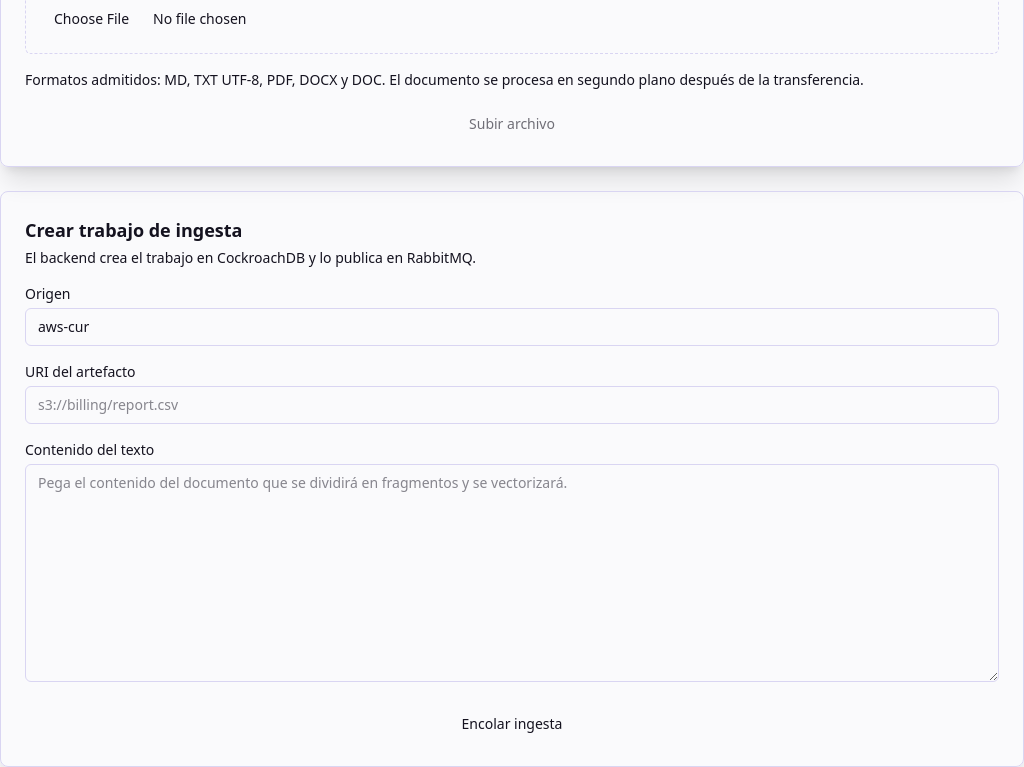
Test: ingestion creation › keeps the document after queue rejection and permits a successful retry
(page scrolled)
Expected: the heading "Crear trabajo de ingesta" is shown, [25,218,242,242]
Type "Idle compute instances cost 678 USD." into the text box labelled "Contenido del texto".
click(512, 572); type("Idle compute instances cost 678 USD.")  # box [25,464,999,682]
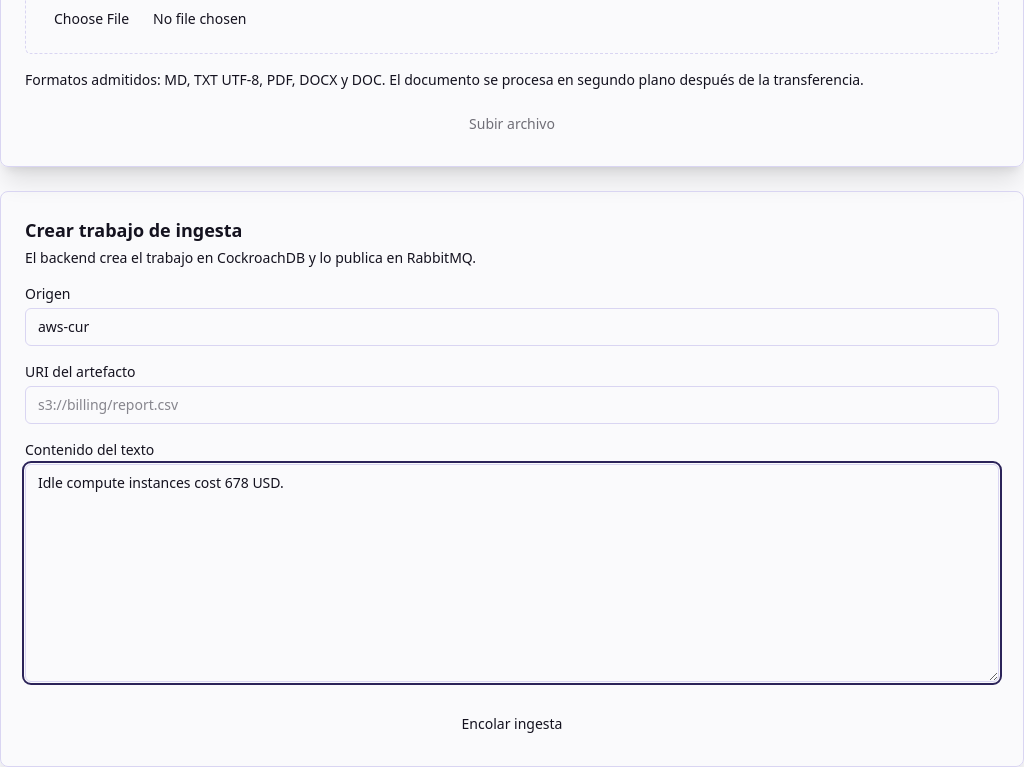
Click the button "Encolar ingesta".
click(512, 724)  # box [25,706,999,742]
(page scrolled)
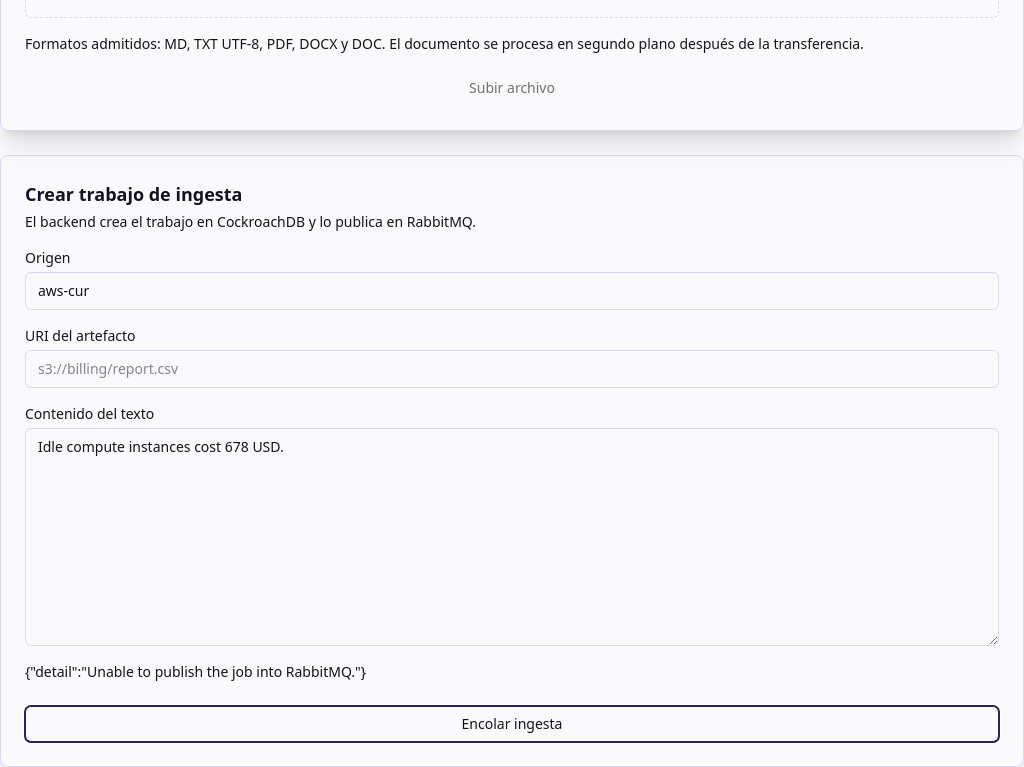
Expected: the heading "Trabajo aceptado" is not shown
Expected: the text "{\"detail\":\"Unable to publish the job into RabbitMQ.\"}" is shown, [25,662,366,680]
Click the button "Encolar ingesta".
click(512, 724)  # box [25,706,999,742]
(page scrolled)
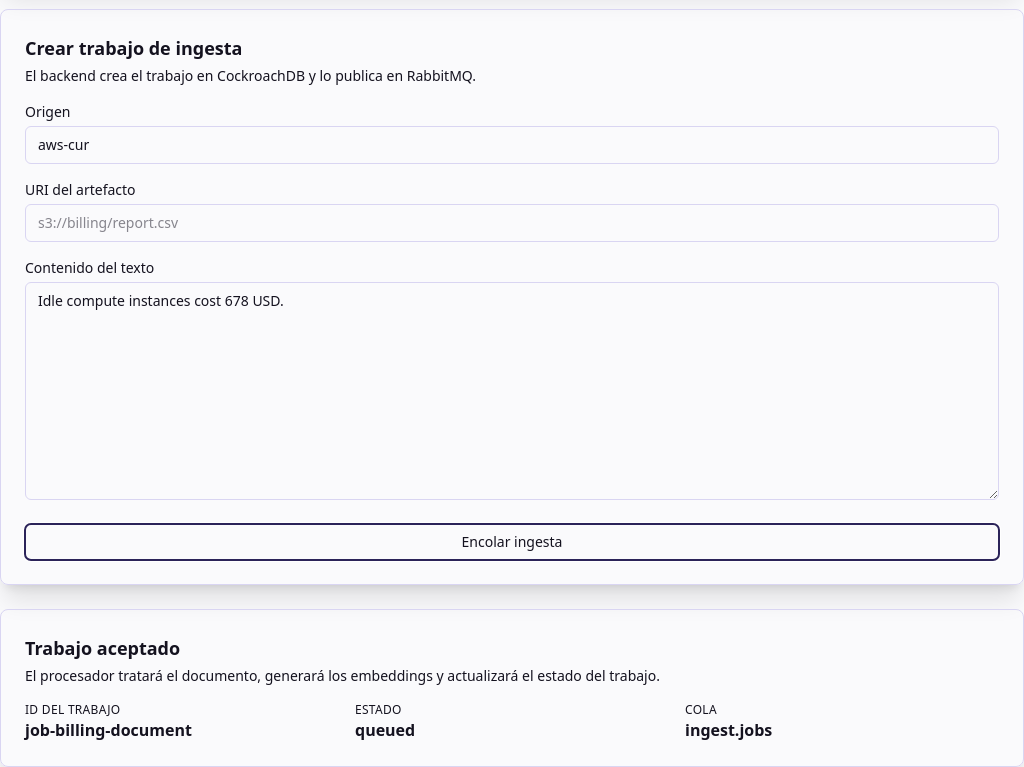
Expected: the heading "Trabajo aceptado" is shown, [25,636,180,660]
Expected: the text "Unable to publish the job into RabbitMQ" is gone
